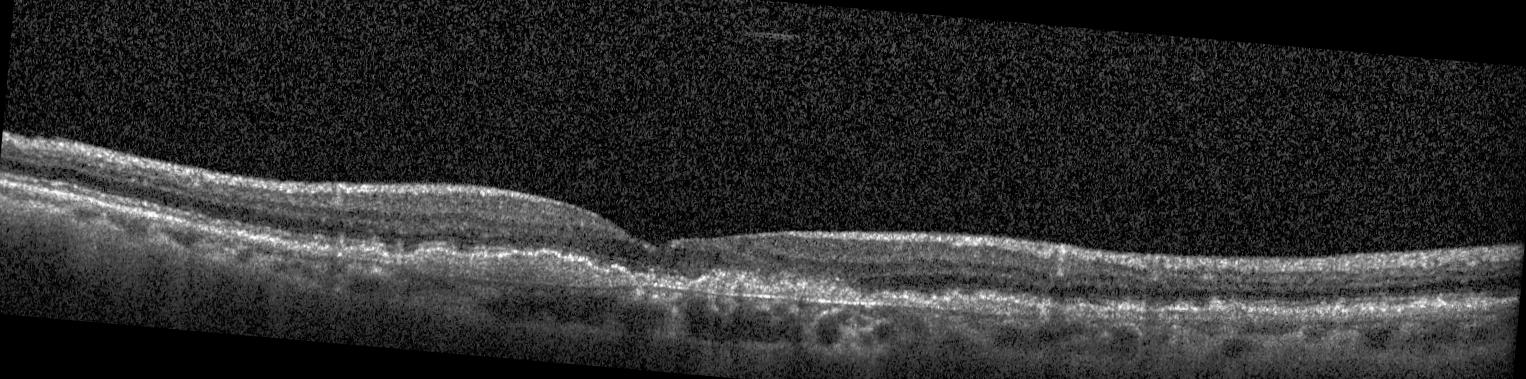subretinal_hyperreflective_material: (340, 245, 869, 301), (872, 289, 1159, 317)
